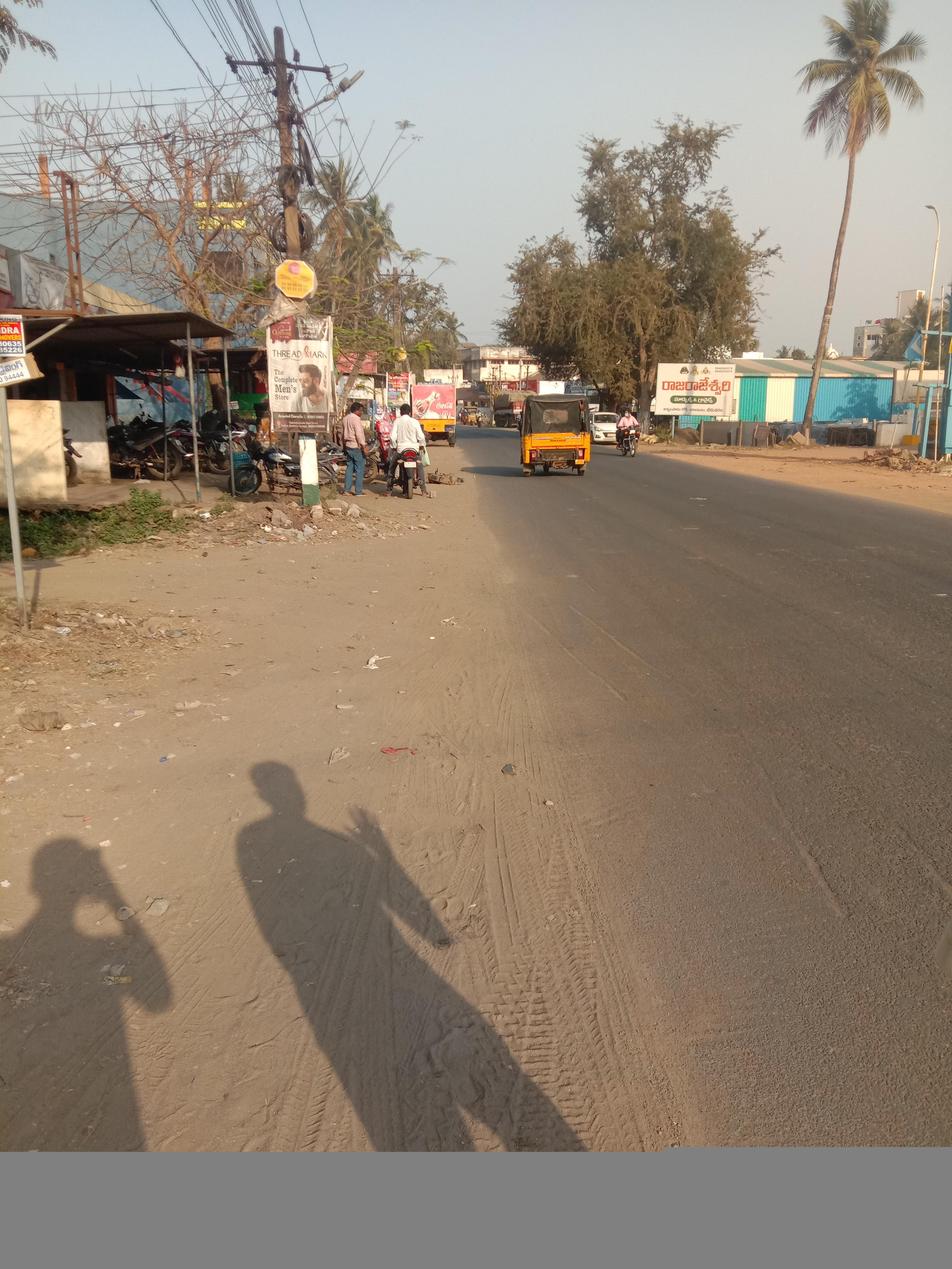Auto: (500, 375, 604, 494)
